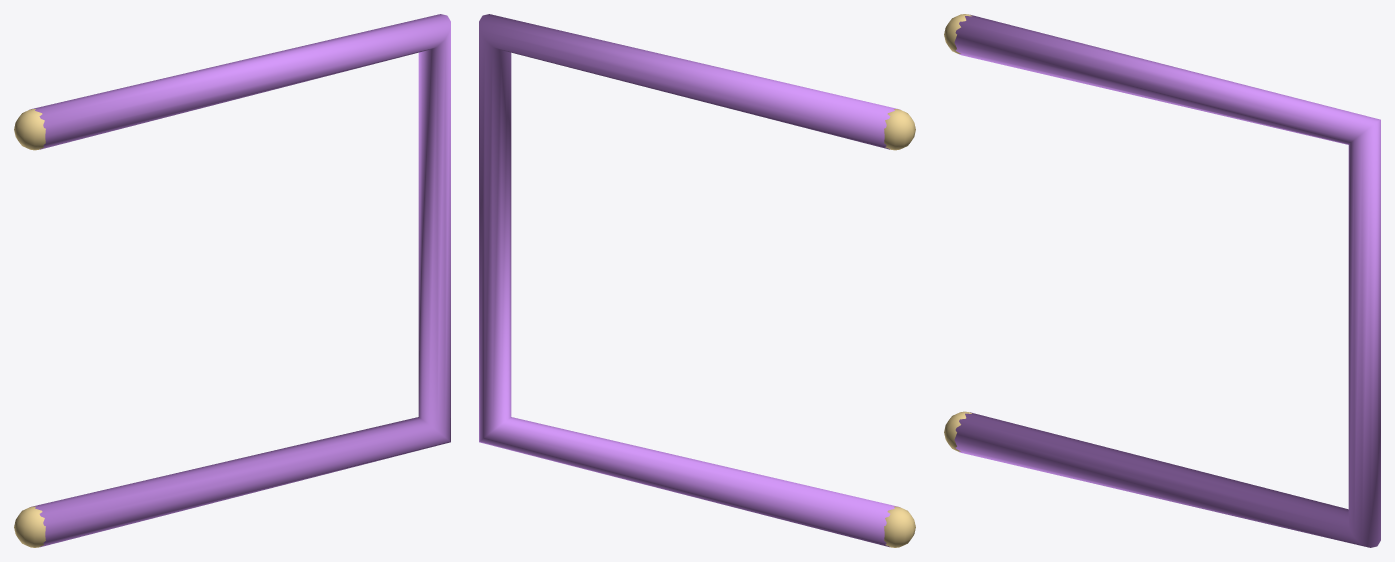
The model's file is bracket-Dyvu2Oxt.glb.
3 renders of one model, left to right at view 1: azimuth 30°, elevation 25°; view 2: azimuth 150°, elevation 25°; view 3: azimuth 330°, elevation 25°, orthographic.
Parts seen in each view (by area): view 1: R3D_bracket_Body_0, R3D_bracket_Tip_0, R3D_bracket_Tip_1; view 2: R3D_bracket_Body_0, R3D_bracket_Tip_0, R3D_bracket_Tip_1; view 3: R3D_bracket_Body_0.
Part boxes in pixels (x1,y1,x2,y2): R3D_bracket_Body_0: (29, 14, 450, 547); R3D_bracket_Tip_0: (14, 506, 45, 547); R3D_bracket_Tip_1: (14, 109, 45, 150); R3D_bracket_Body_0: (479, 14, 900, 547); R3D_bracket_Tip_0: (884, 506, 915, 547); R3D_bracket_Tip_1: (884, 109, 915, 150); R3D_bracket_Body_0: (954, 14, 1380, 547).
Size of the model in its own units: 2.15 by 2.08 by 0.18.
